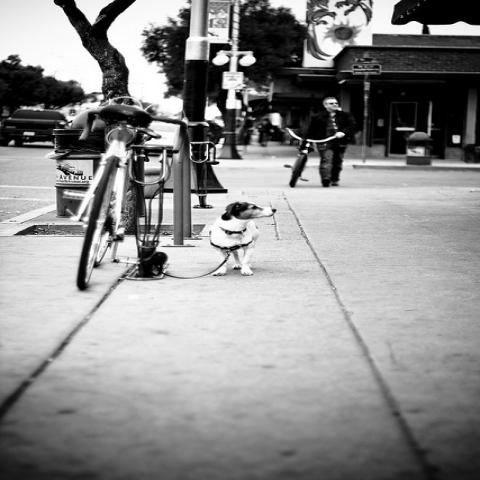truck: (1, 108, 74, 146)
